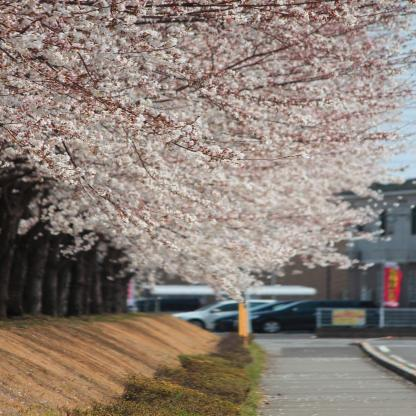Someiyoshino: (4, 2, 416, 297)
